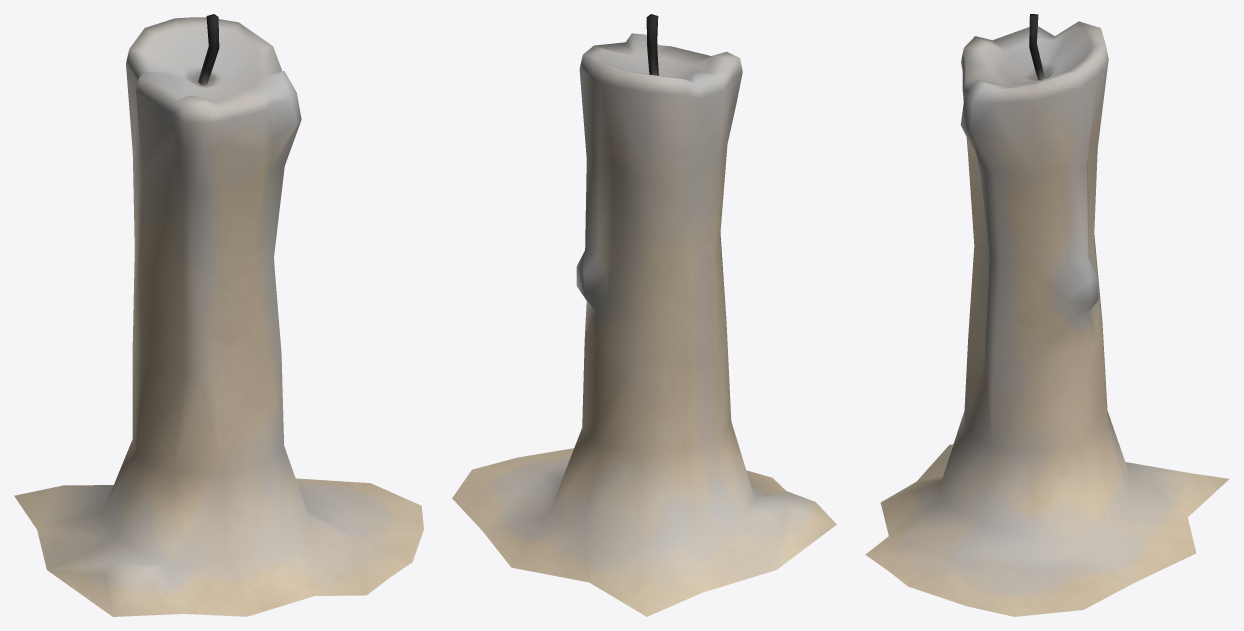
Rendered from candle_1.FBX.
3 views of the same model, side by side, from view 1: azimuth 30°, elevation 25°; view 2: azimuth 150°, elevation 25°; view 3: azimuth 270°, elevation 25° (orthographic). The views are drawn at different scales.
Visible parts, largest first — view 1: candle_1; view 2: candle_1; view 3: candle_1.
Part boxes in pixels (x1,y1,x2,y2): candle_1: (14, 14, 423, 616); candle_1: (452, 14, 836, 616); candle_1: (865, 14, 1229, 616).
Size of the model in its own units: 7.46 by 10.9 by 7.09.
